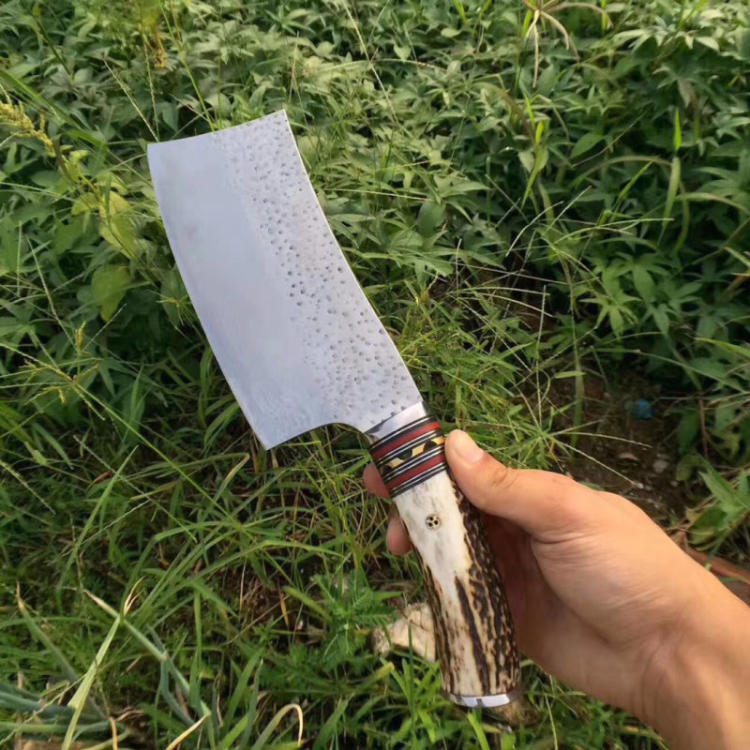knief: (124, 120, 532, 690)
